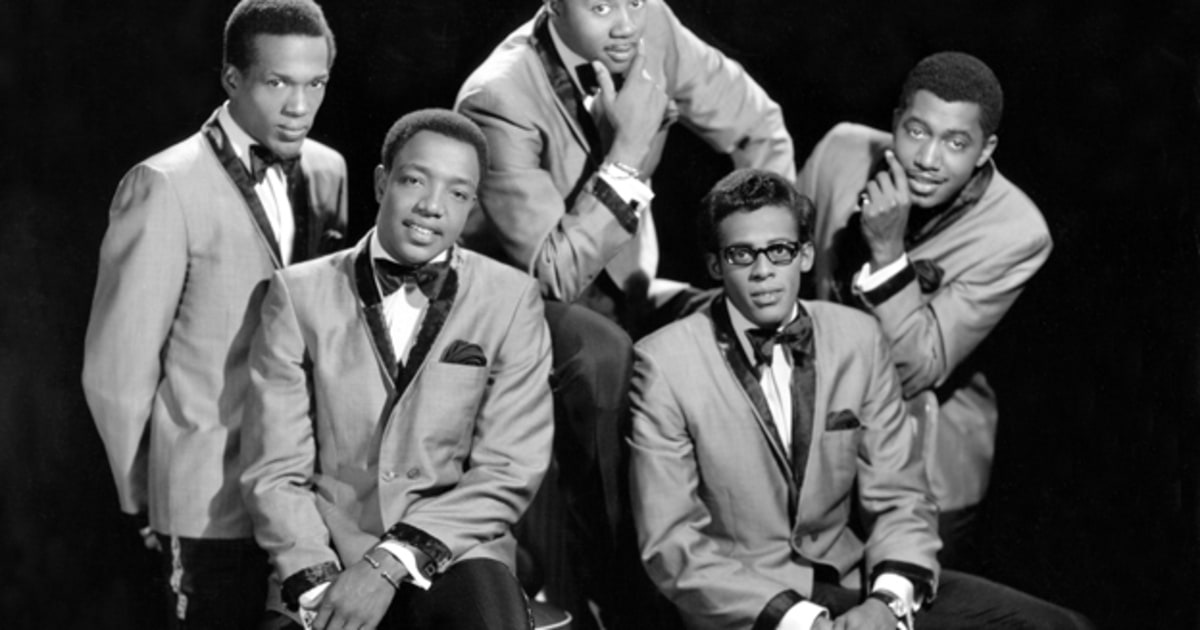bad: (892, 116, 982, 206), (384, 156, 474, 245), (713, 226, 802, 315), (254, 63, 328, 138)
